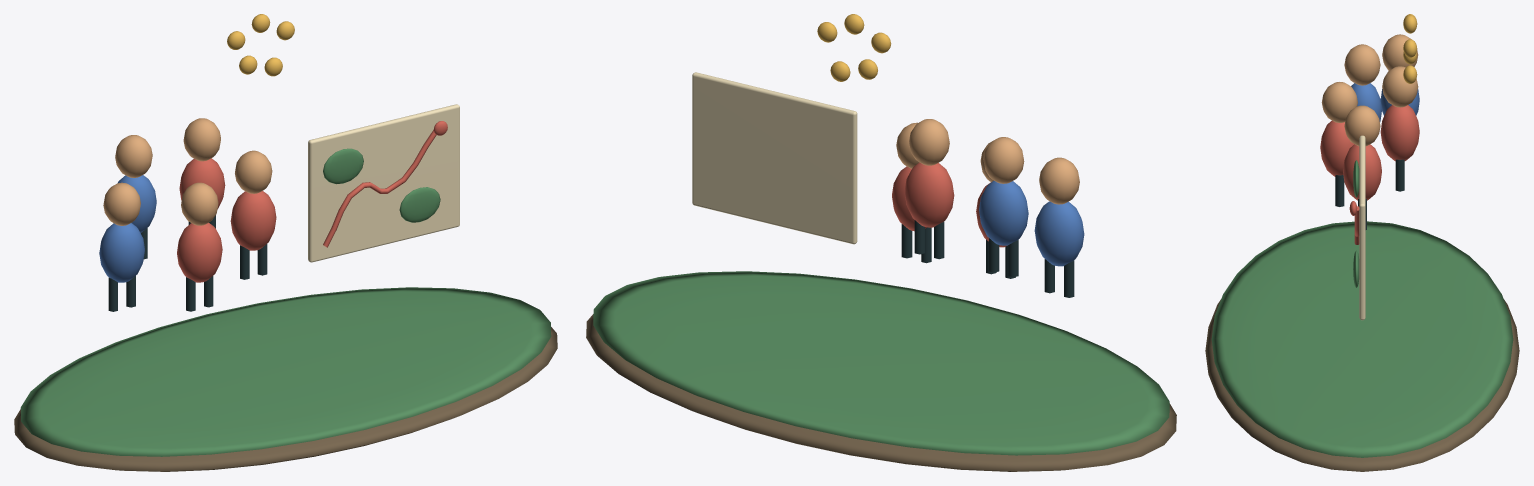
The model's file is complete-third-general-every-place.glb.
The picture shows the model from 3 angles, left to right: view 1: azimuth 30°, elevation 25°; view 2: azimuth 150°, elevation 25°; view 3: azimuth 270°, elevation 25°; orthographic projection. The views are drawn at different scales.
Parts seen in each view (by area): view 1: complete-third-general-every-place_surface_01, complete-third-general-every-place_surface_06, complete-third-general-every-place_surface_00, complete-third-general-every-place_surface_05, complete-third-general-every-place_surface_02, complete-third-general-every-place_surface_03, complete-third-general-every-place_surface_04, complete-third-general-every-place_surface_07; view 2: complete-third-general-every-place_surface_01, complete-third-general-every-place_surface_06, complete-third-general-every-place_surface_00, complete-third-general-every-place_surface_02, complete-third-general-every-place_surface_03, complete-third-general-every-place_surface_05, complete-third-general-every-place_surface_04, complete-third-general-every-place_surface_07; view 3: complete-third-general-every-place_surface_01, complete-third-general-every-place_surface_00, complete-third-general-every-place_surface_02, complete-third-general-every-place_surface_05, complete-third-general-every-place_surface_06, complete-third-general-every-place_surface_03, complete-third-general-every-place_surface_07, complete-third-general-every-place_surface_04.
Boxes of the visible parts, <box> form: complete-third-general-every-place_surface_01: <box>20,148,551,456</box>; complete-third-general-every-place_surface_06: <box>308,104,459,262</box>; complete-third-general-every-place_surface_00: <box>14,327,557,471</box>; complete-third-general-every-place_surface_05: <box>177,121,447,282</box>; complete-third-general-every-place_surface_02: <box>103,118,272,225</box>; complete-third-general-every-place_surface_03: <box>99,175,156,282</box>; complete-third-general-every-place_surface_04: <box>108,215,267,311</box>; complete-third-general-every-place_surface_07: <box>227,14,294,76</box>; complete-third-general-every-place_surface_01: <box>593,271,1169,455</box>; complete-third-general-every-place_surface_06: <box>692,72,857,244</box>; complete-third-general-every-place_surface_00: <box>586,314,1176,471</box>; complete-third-general-every-place_surface_02: <box>896,119,1079,204</box>; complete-third-general-every-place_surface_03: <box>979,181,1084,266</box>; complete-third-general-every-place_surface_05: <box>892,162,1006,247</box>; complete-third-general-every-place_surface_04: <box>901,220,1074,297</box>; complete-third-general-every-place_surface_07: <box>817,14,891,81</box>; complete-third-general-every-place_surface_01: <box>1211,160,1513,457</box>; complete-third-general-every-place_surface_00: <box>1205,299,1519,471</box>; complete-third-general-every-place_surface_02: <box>1321,34,1418,146</box>; complete-third-general-every-place_surface_05: <box>1320,105,1419,244</box>; complete-third-general-every-place_surface_06: <box>1359,135,1365,320</box>; complete-third-general-every-place_surface_03: <box>1351,83,1419,121</box>; complete-third-general-every-place_surface_07: <box>1403,14,1417,83</box>; complete-third-general-every-place_surface_04: <box>1335,159,1404,229</box>.
Size of the model in its own units: 4.56 by 3.07 by 2.5.
